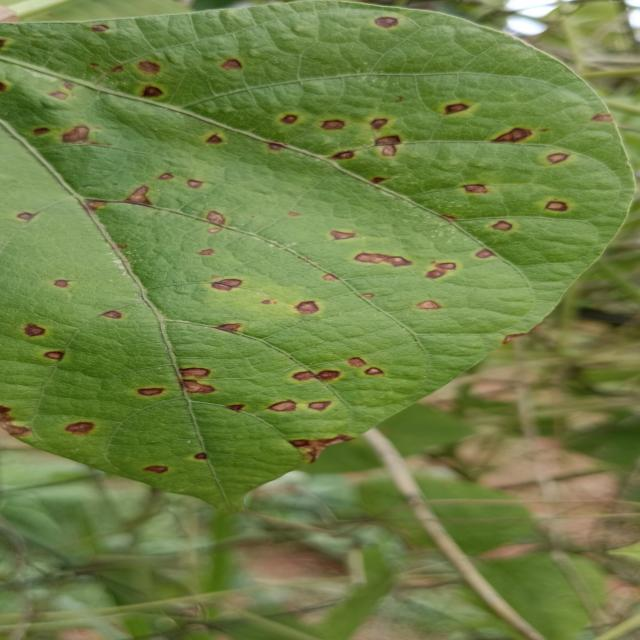Dolicos bean_cercospora leaf spot: (0, 0, 626, 503)
